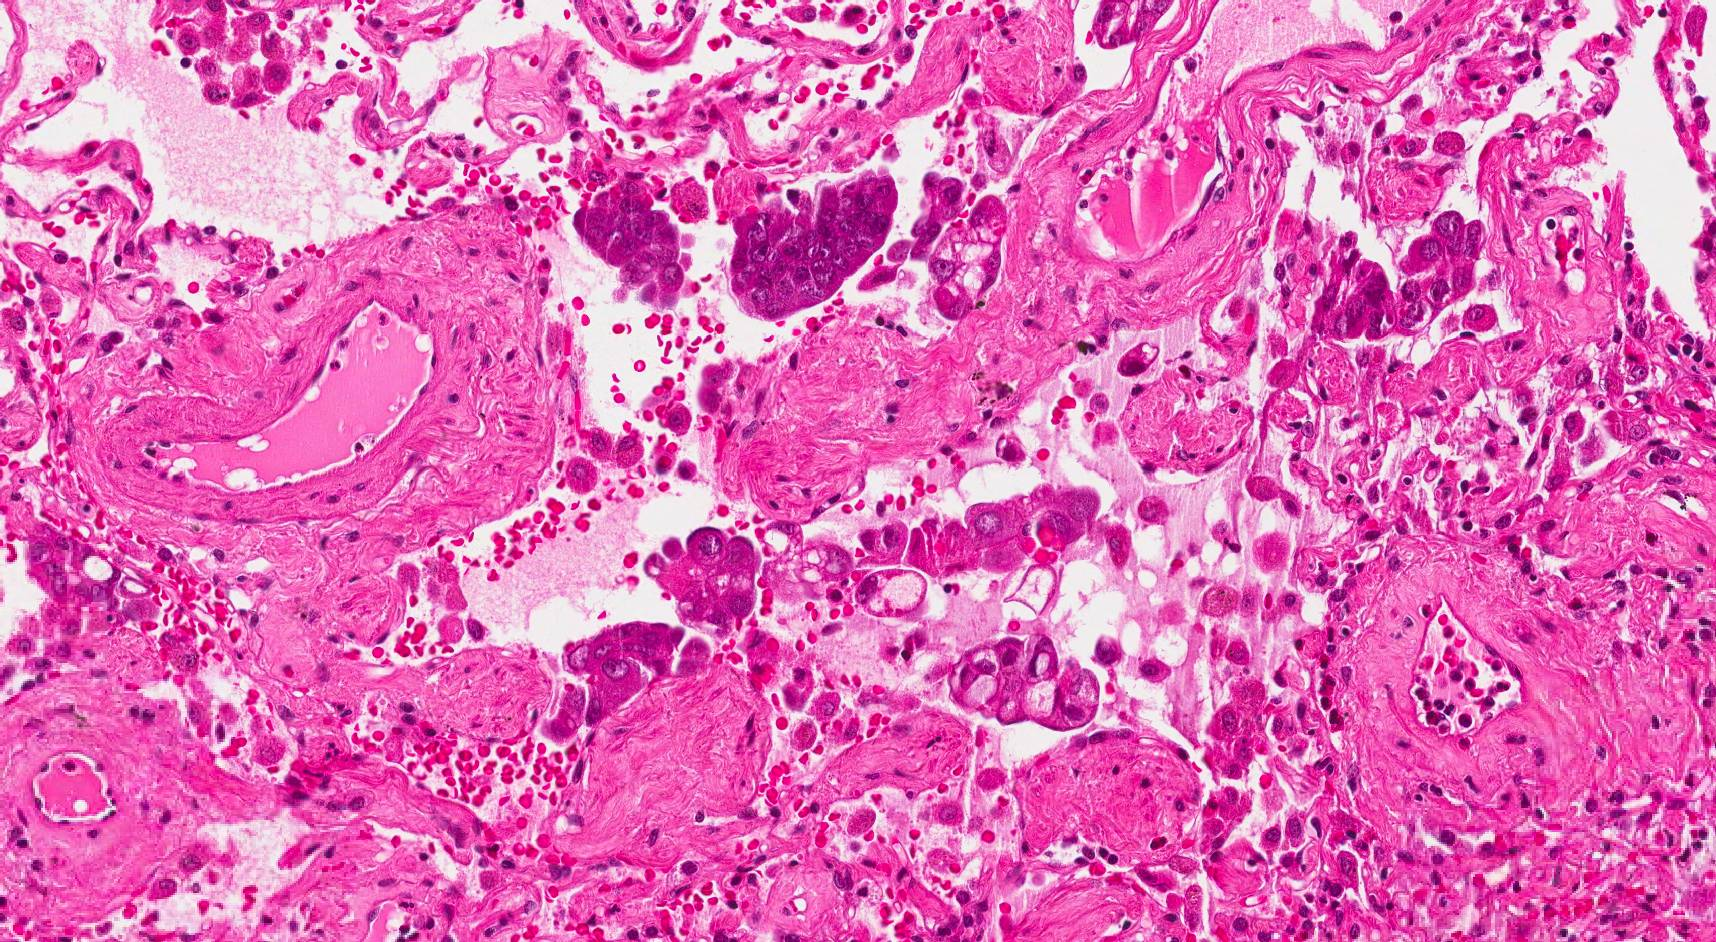stas: (722, 168, 900, 323), (1313, 207, 1486, 343), (857, 483, 1098, 577), (547, 618, 709, 747), (566, 179, 688, 313), (946, 633, 1105, 734), (25, 516, 163, 620), (646, 521, 763, 635), (923, 194, 1009, 320)
